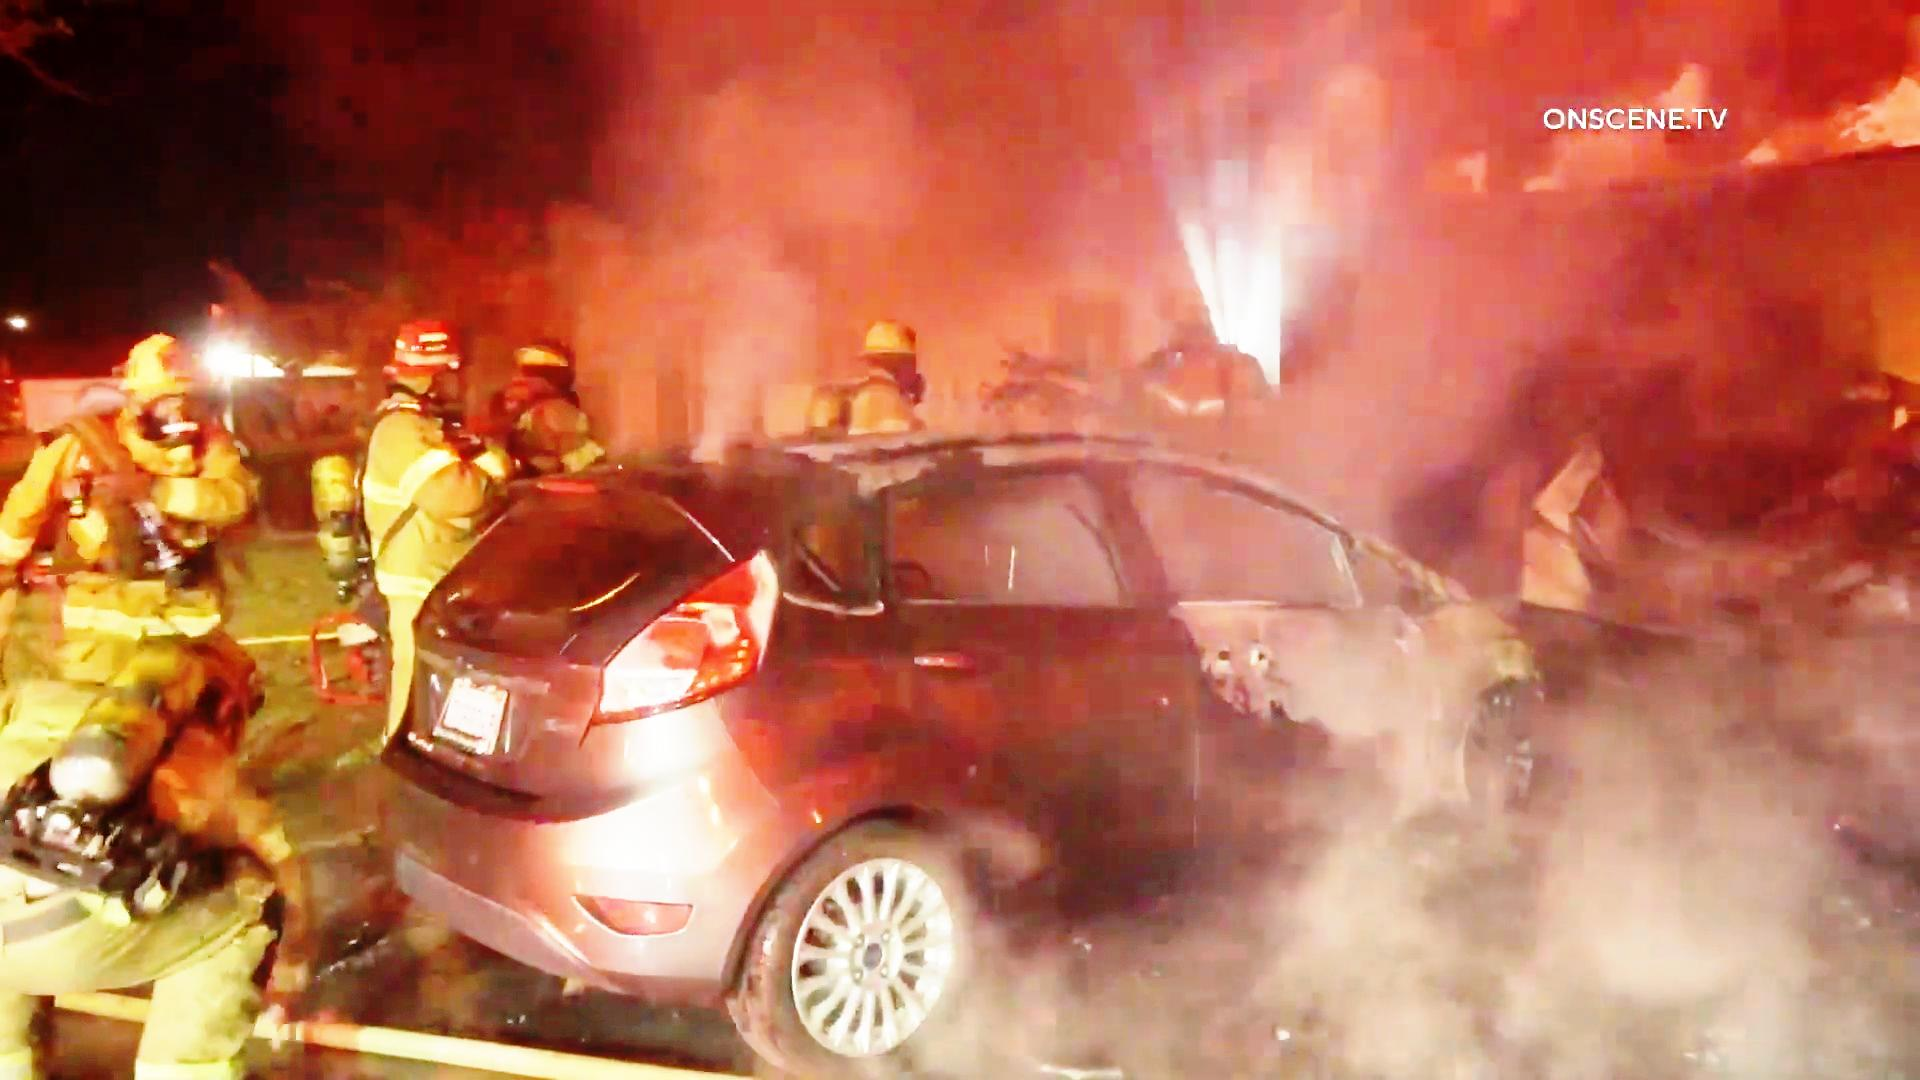smoke: (1269, 613, 1920, 1075), (618, 3, 1105, 266)
